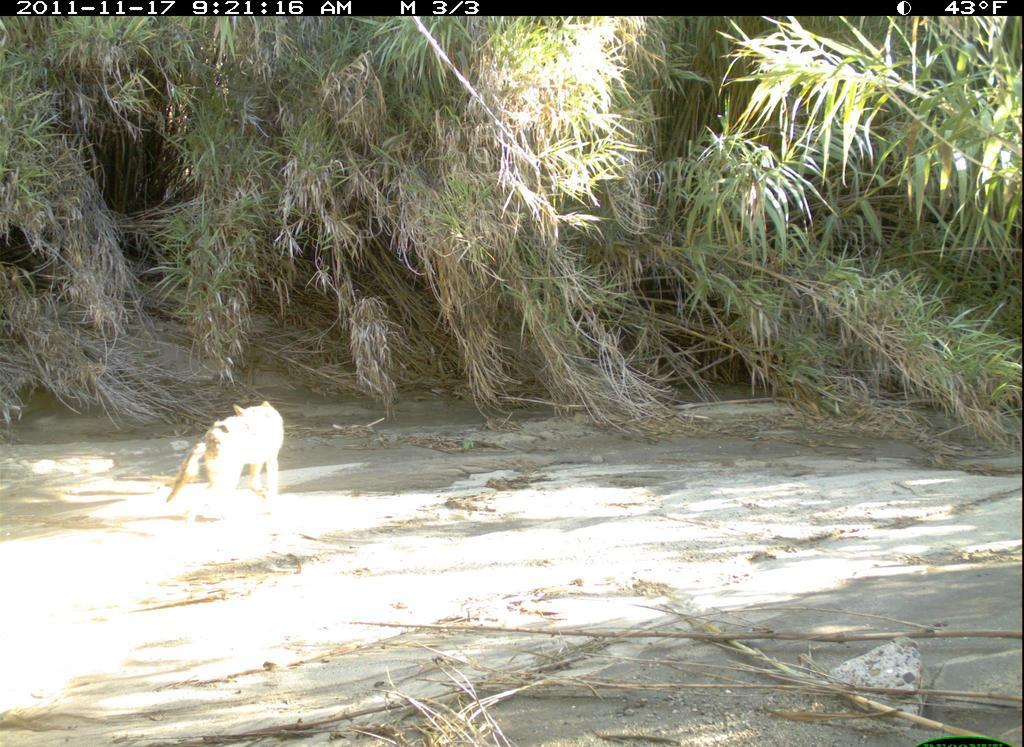coyote: (157, 376, 318, 561)
